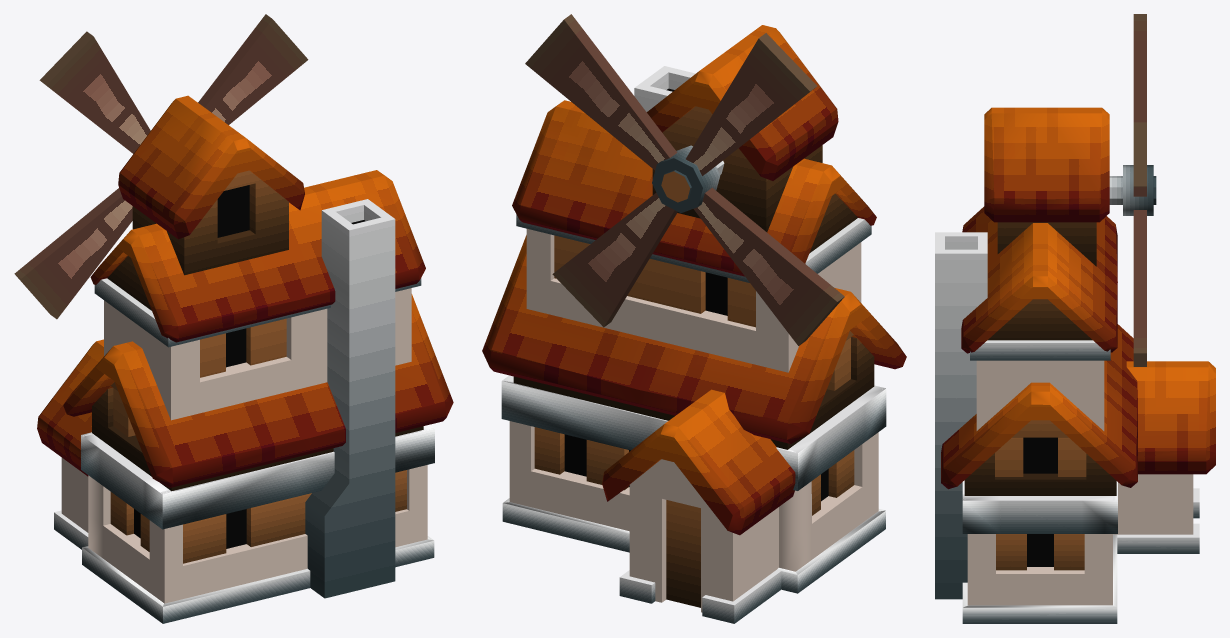
The model's file is farm_house_lvl7(anmated).fbx.
3 renders of one model, left to right at view 1: azimuth 30°, elevation 25°; view 2: azimuth 150°, elevation 25°; view 3: azimuth 270°, elevation 25°, orthographic. The views are drawn at different scales.
Parts seen in each view (by area): view 1: farm_house_lvl7.001, farm_house_lvl7.002; view 2: farm_house_lvl7.001, farm_house_lvl7.002; view 3: farm_house_lvl7.001, farm_house_lvl7.002.
Part boxes in pixels (x1=…): farm_house_lvl7.001: x1=37, y1=95, x2=453, y2=623; farm_house_lvl7.002: x1=14, y1=14, x2=308, y2=319; farm_house_lvl7.001: x1=482, y1=25, x2=906, y2=623; farm_house_lvl7.002: x1=525, y1=14, x2=844, y2=345; farm_house_lvl7.001: x1=935, y1=107, x2=1215, y2=623; farm_house_lvl7.002: x1=1109, y1=14, x2=1156, y2=366.
Size of the model in its own units: 56.28 by 82.67 by 42.65.
